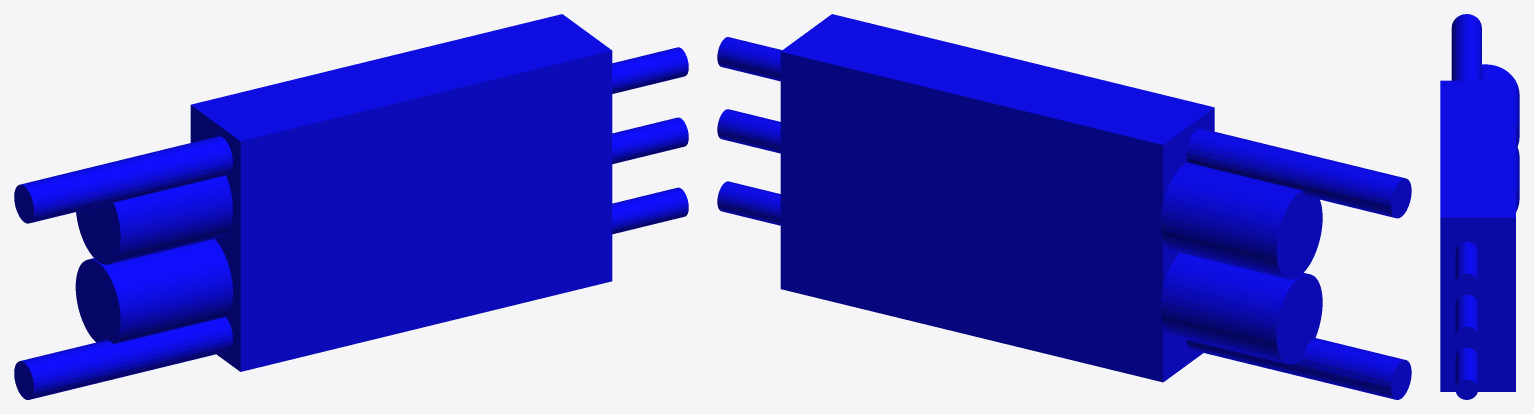
File: ubec.dae
The picture shows the model from 3 angles, left to right: view 1: azimuth 30°, elevation 25°; view 2: azimuth 150°, elevation 25°; view 3: azimuth 270°, elevation 25°; orthographic projection. The views are drawn at different scales.
Visible parts, largest first — view 1: node0; view 2: node0; view 3: node0.
Boxes of the visible parts, bbox=[...] form: node0: bbox=[14, 14, 688, 399]; node0: bbox=[717, 14, 1411, 399]; node0: bbox=[1440, 14, 1519, 399].
Size of the model in its own units: 76 by 10.5 by 25.5.
